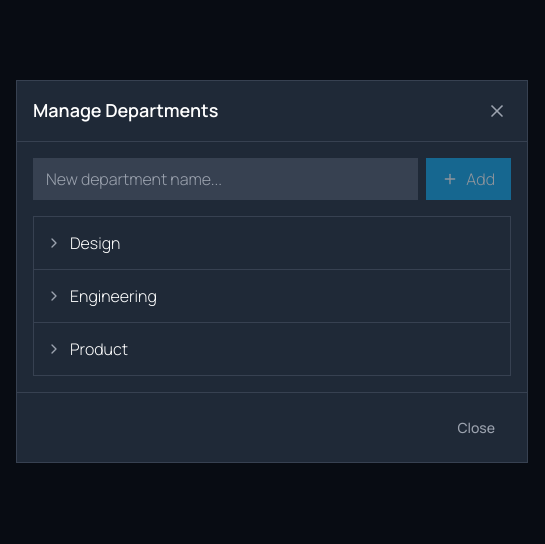
it: ManageDepartmentsModal › user list functionality › expands to show users when department clicked
# Click on Engineering department row to expand
Click the text "Engineering". click: (113, 296)
box: [70,284,157,308]
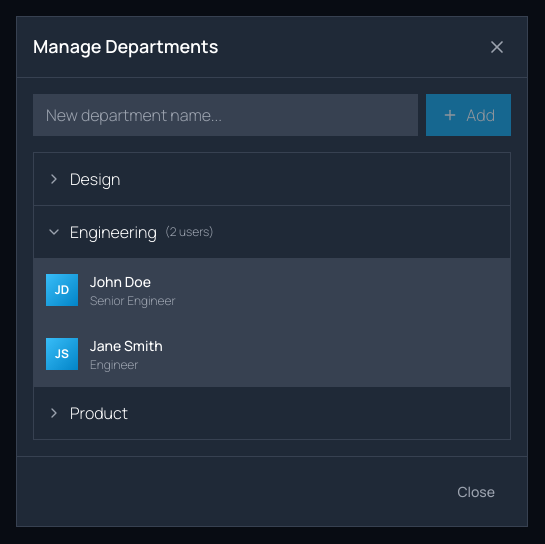
Expected: the text "Senior Engineer" is shown, [90,292,176,308]
Expected: the text "Engineer" is shown, [90,356,138,372]
